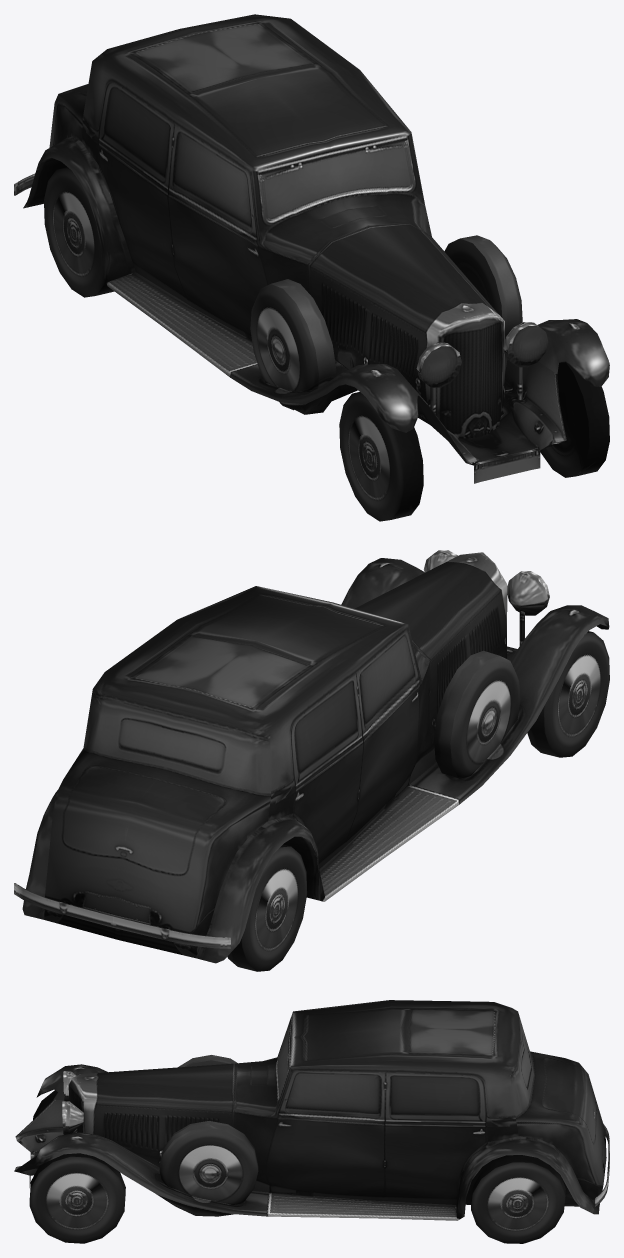
The model's file is Old_Car_01.glb.
The picture shows the model from 3 angles, top to bottom: view 1: azimuth 30°, elevation 25°; view 2: azimuth 150°, elevation 25°; view 3: azimuth 270°, elevation 25°; orthographic projection. The views are drawn at different scales.
Visible parts, largest first — view 1: Old_Car_01, Wheel-Front-Right, Wheel-Back-Right, Wheel-Front-Left; view 2: Old_Car_01, Wheel-Front-Right, Wheel-Back-Right; view 3: Old_Car_01, Wheel-Front-Left, Wheel-Back-Left.
Boxes of the visible parts, bbox=[...] form: Old_Car_01: bbox=[14, 14, 609, 483]; Wheel-Front-Right: bbox=[339, 392, 423, 521]; Wheel-Back-Right: bbox=[44, 167, 114, 297]; Wheel-Front-Left: bbox=[540, 362, 609, 477]; Old_Car_01: bbox=[14, 550, 609, 963]; Wheel-Front-Right: bbox=[527, 631, 609, 757]; Wheel-Back-Right: bbox=[227, 844, 307, 971]; Old_Car_01: bbox=[14, 1000, 609, 1220]; Wheel-Front-Left: bbox=[29, 1153, 125, 1243]; Wheel-Back-Left: bbox=[471, 1155, 565, 1243].
Size of the model in its own units: 1.83 by 1.82 by 5.4.
Materials: 1 (1 with a texture image).
